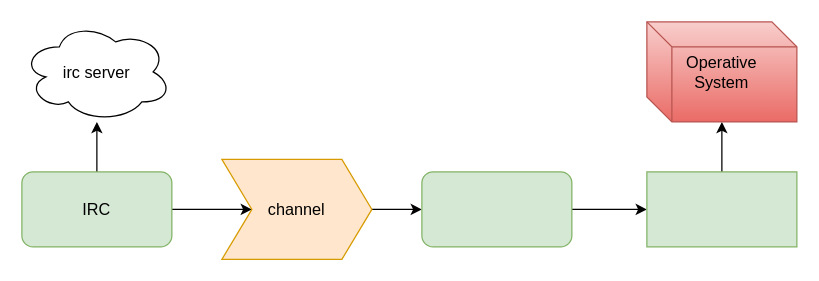
Some shapes in this 819 by 281 pixel diagram are drawn without their labels. The centre of each missing label's shape, as x and y in pixels:
EventSender: the point at 721,209
Procesor: the point at 496,209
